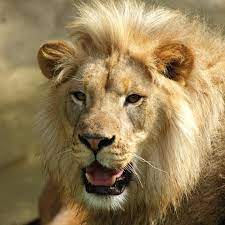lion: (18, 18, 189, 213)
